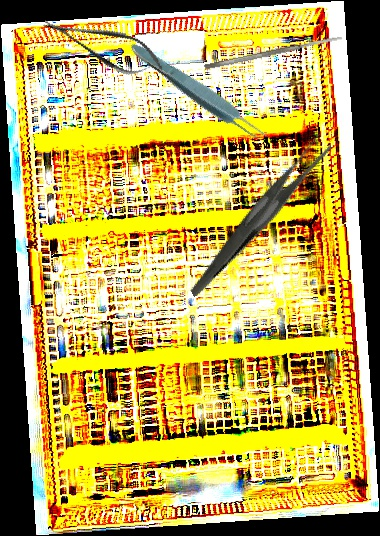Dressing Forceps: (155, 132, 362, 297)
Micro Scissor: (37, 3, 170, 87)
Spatula Surgical: (203, 34, 344, 71)
Tissue Forceps: (124, 37, 274, 150)
